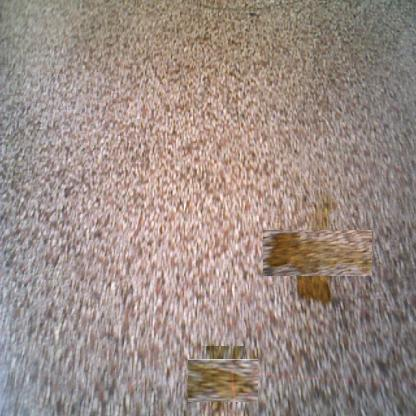liquid: (278, 214, 356, 292), (195, 353, 252, 409)
